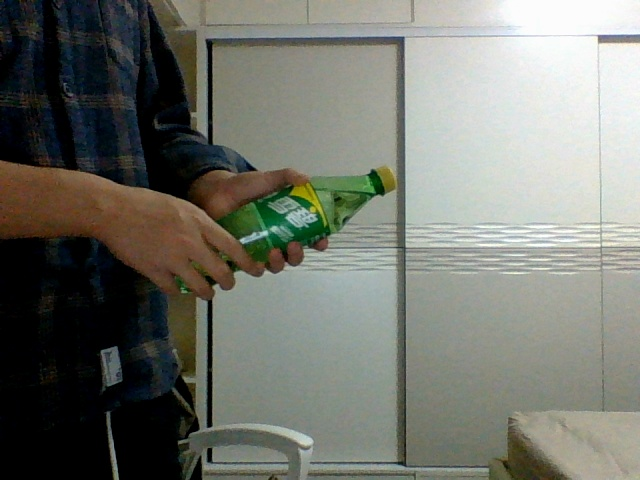Sprite: (177, 165, 397, 290)
